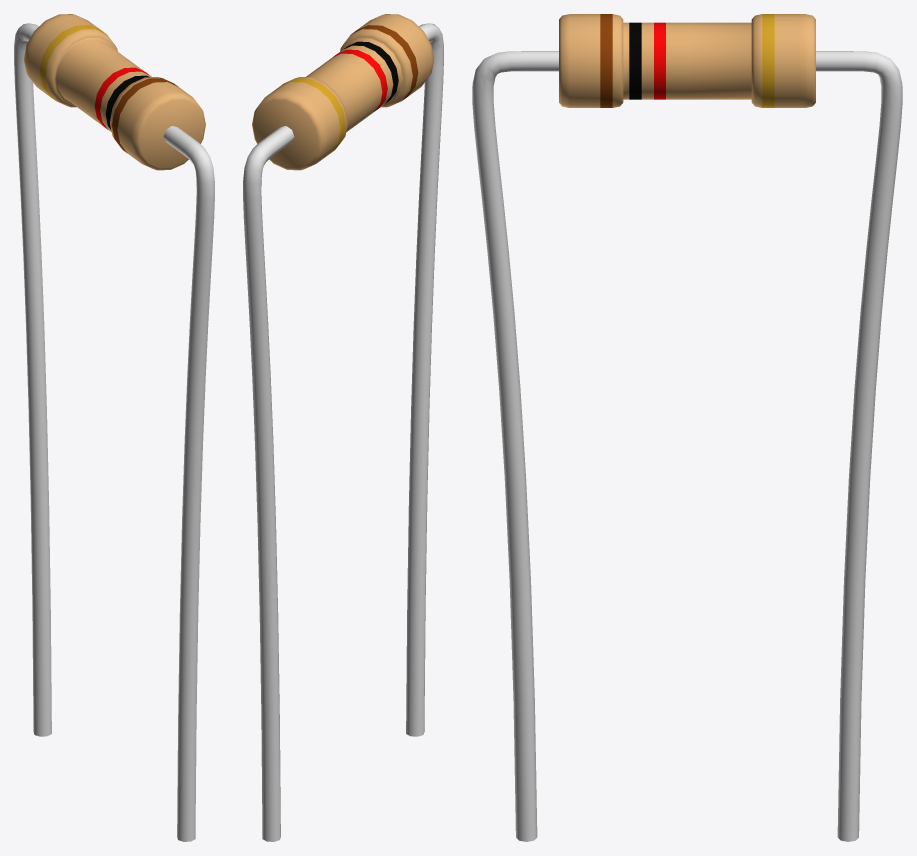
The model's file is resistor.fbx.
The picture shows the model from 3 angles, left to right: view 1: azimuth 30°, elevation 25°; view 2: azimuth 150°, elevation 25°; view 3: azimuth 270°, elevation 25°; orthographic projection. The views are drawn at different scales.
Visible parts, largest first — view 1: Resistor-Axial, Legs.001, Legs.002; view 2: Resistor-Axial, Legs.002, Legs.001; view 3: Resistor-Axial, Legs.001, Legs.002.
Boxes of the visible parts, x1,y1,x2,y2 form: Resistor-Axial: (24, 14, 205, 170); Legs.001: (163, 126, 214, 841); Legs.002: (14, 23, 51, 736); Resistor-Axial: (252, 14, 433, 170); Legs.002: (243, 126, 294, 841); Legs.001: (406, 23, 443, 736); Resistor-Axial: (559, 14, 815, 107); Legs.001: (472, 51, 558, 841); Legs.002: (816, 51, 902, 841).
Bounding box in the file's own units: 0.22 × 2.11 × 1.
